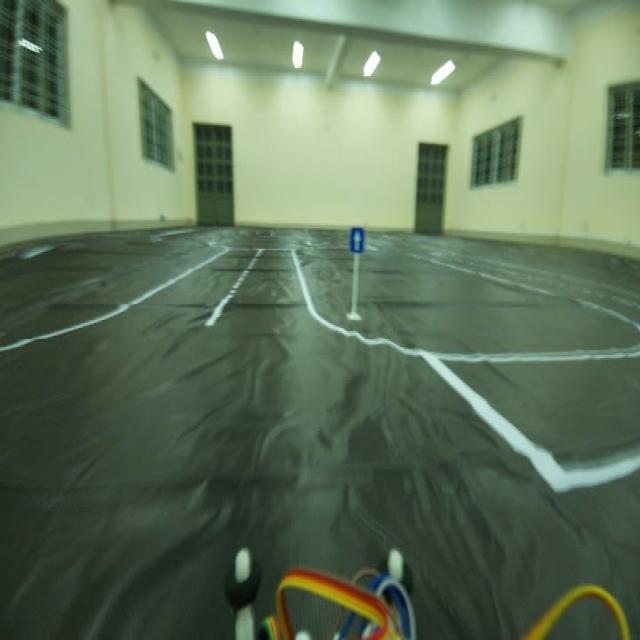onewayroad: (344, 218, 370, 259)
